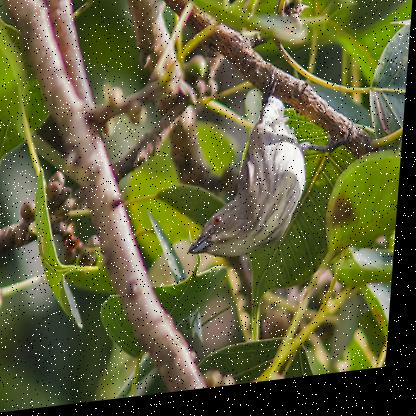Burung: (191, 69, 361, 263)
